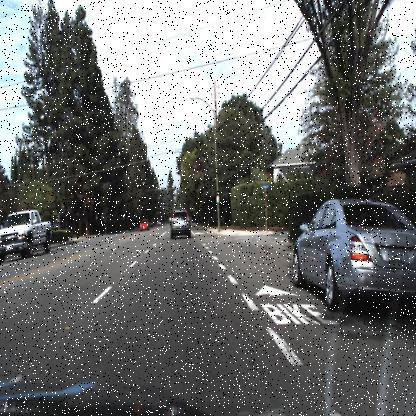car: (291, 194, 416, 312), (0, 209, 54, 262), (170, 207, 191, 240), (139, 218, 150, 232)
